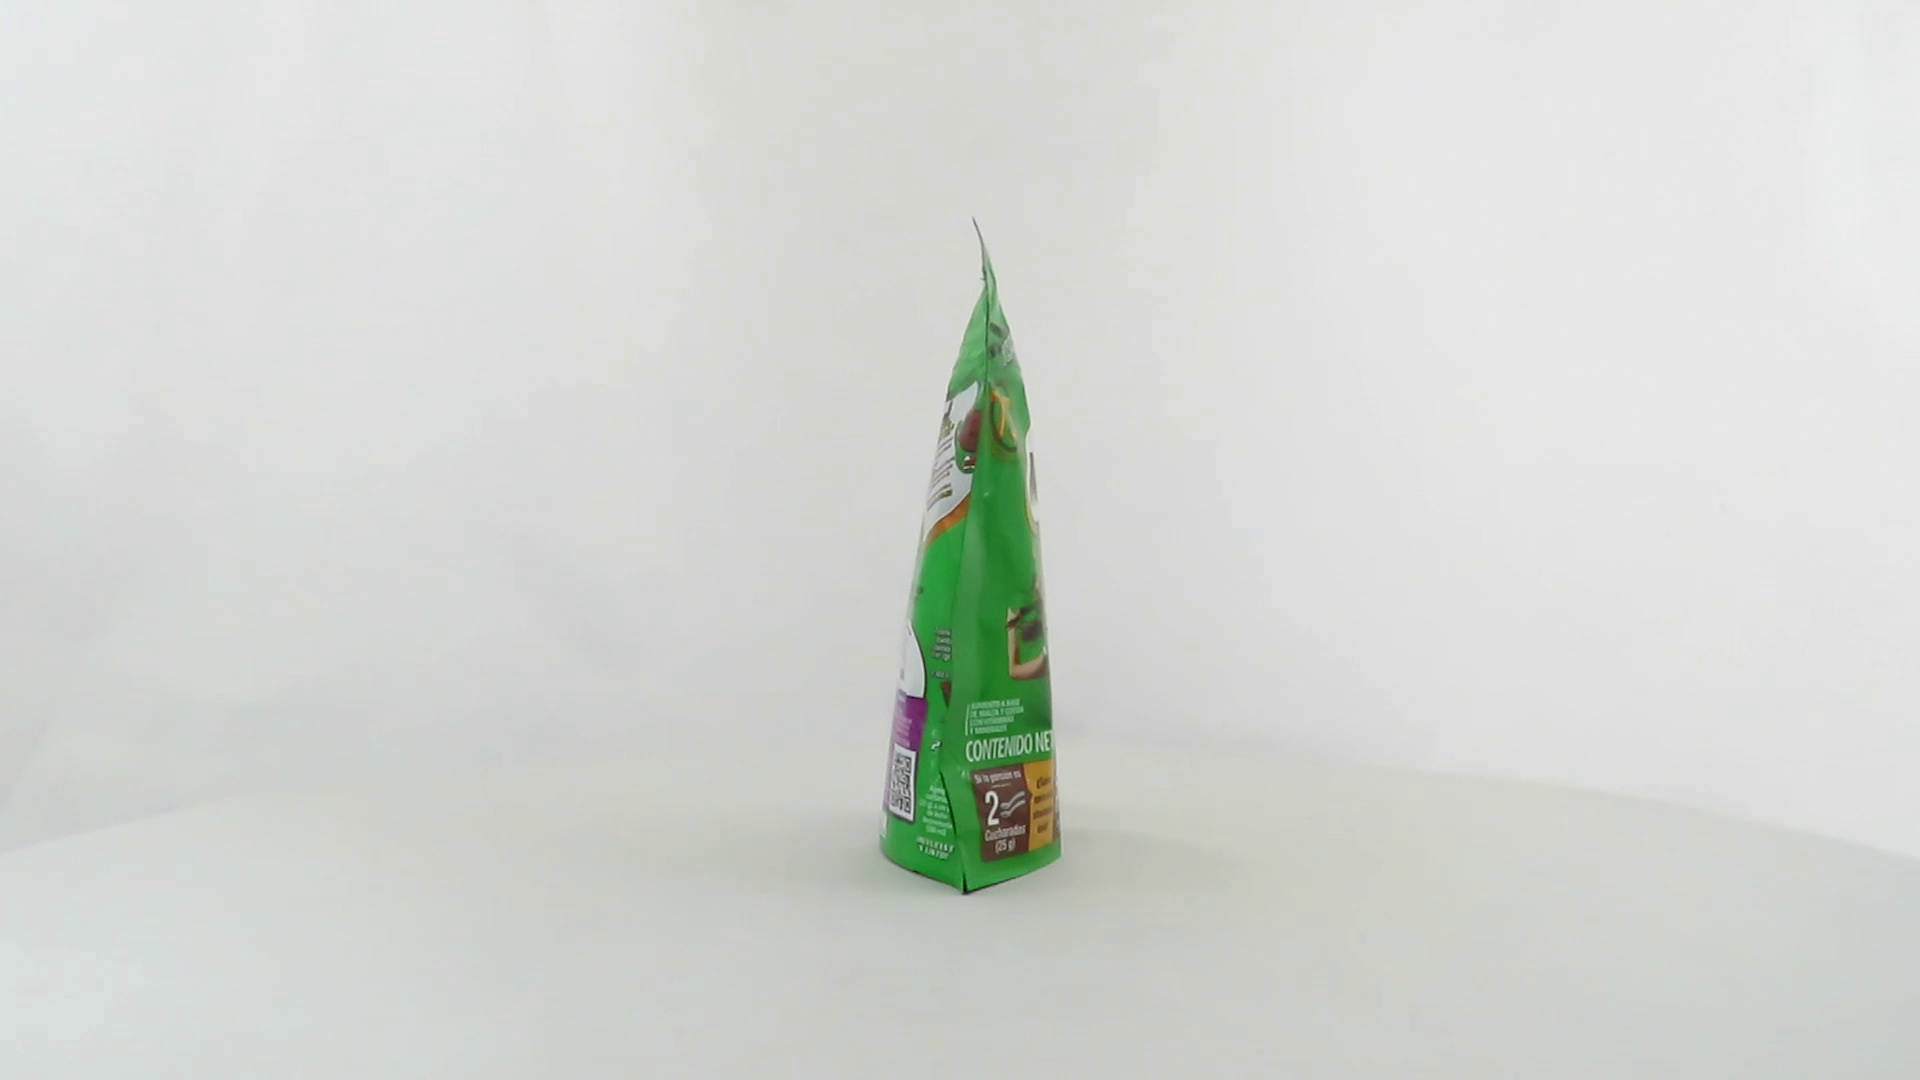COL0170203DYP10000: (874, 212, 1068, 901)
